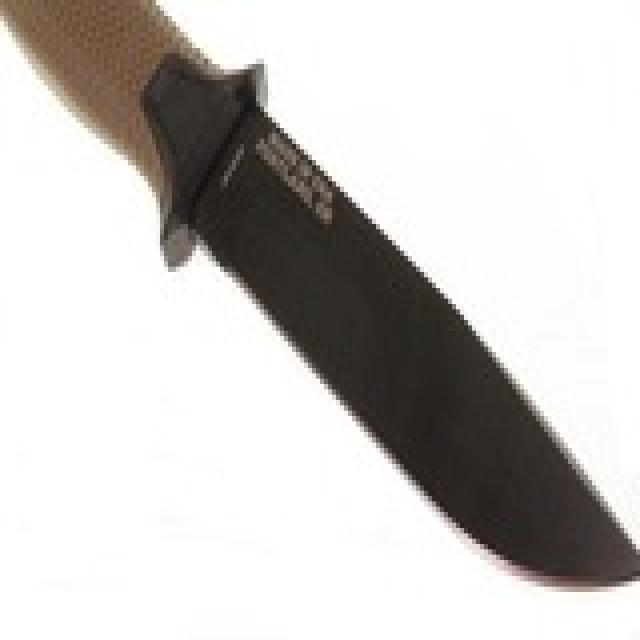Knife: (29, 14, 635, 586)
